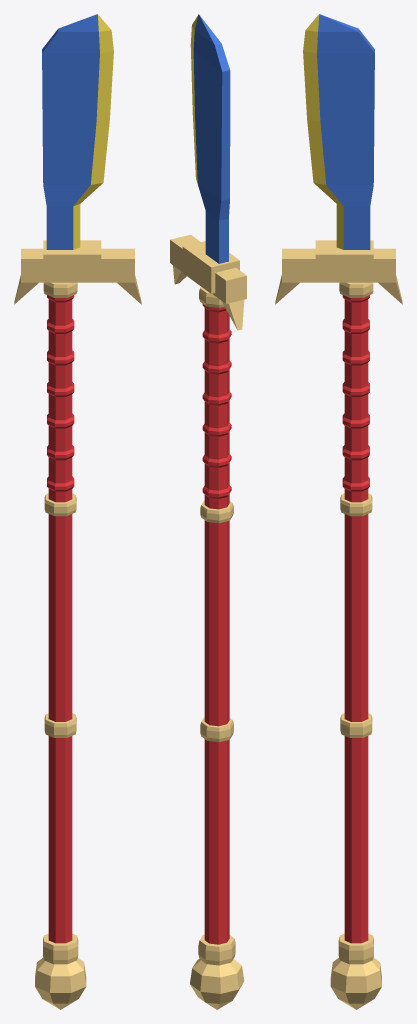
File: staff_rootcleaver.glb
3 renders of one model, left to right at view 1: azimuth 90°, elevation 25°; view 2: azimuth 210°, elevation 25°; view 3: azimuth 270°, elevation 25°, orthographic.
Parts seen in each view (by area): view 1: staff_rootcleaver_grip, staff_rootcleaver_blade, staff_rootcleaver_guard, staff_rootcleaver_pommel; view 2: staff_rootcleaver_grip, staff_rootcleaver_blade, staff_rootcleaver_guard, staff_rootcleaver_pommel; view 3: staff_rootcleaver_grip, staff_rootcleaver_blade, staff_rootcleaver_guard, staff_rootcleaver_pommel.
Part boxes in pixels (left/top/right/bottom): staff_rootcleaver_grip: left=43, top=282, right=78, bottom=964; staff_rootcleaver_blade: left=42, top=14, right=113, bottom=249; staff_rootcleaver_guard: left=14, top=240, right=141, bottom=304; staff_rootcleaver_pommel: left=35, top=957, right=86, bottom=1009; staff_rootcleaver_grip: left=198, top=286, right=235, bottom=965; staff_rootcleaver_blade: left=190, top=14, right=230, bottom=263; staff_rootcleaver_guard: left=170, top=234, right=246, bottom=330; staff_rootcleaver_pommel: left=190, top=959, right=244, bottom=1009; staff_rootcleaver_grip: left=338, top=282, right=373, bottom=964; staff_rootcleaver_blade: left=303, top=14, right=374, bottom=249; staff_rootcleaver_guard: left=275, top=240, right=402, bottom=304; staff_rootcleaver_pommel: left=330, top=957, right=381, bottom=1009.
Bounding box in the file's own units: 0.0887 × 1.89 × 0.22.
